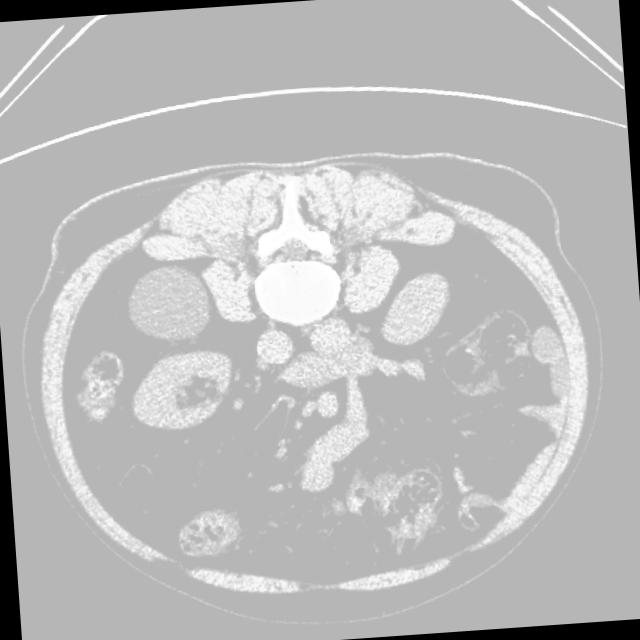cysts: (24, 141, 604, 619)
